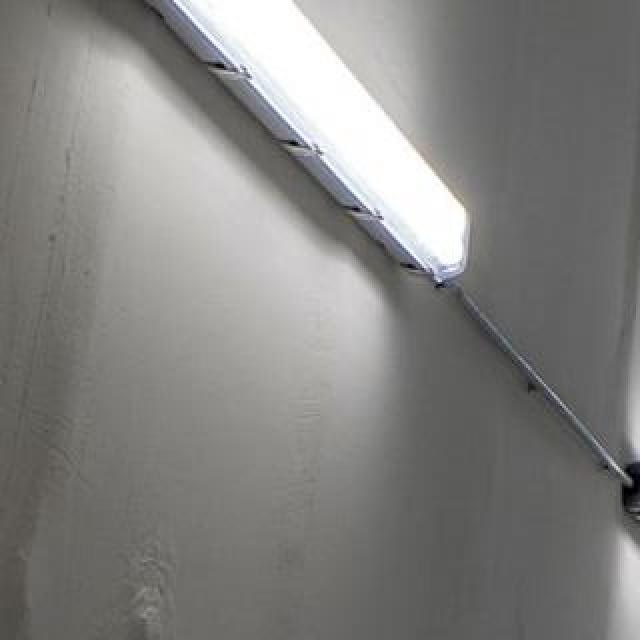fluorescent tube: (84, 0, 522, 298), (606, 446, 640, 618)
